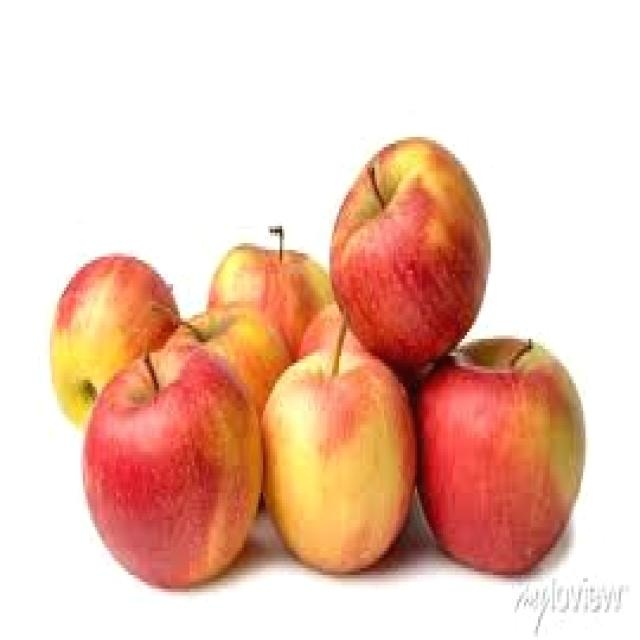agrume: (400, 314, 624, 614), (257, 252, 451, 506), (305, 111, 491, 367), (79, 330, 260, 589), (169, 181, 341, 447), (273, 344, 425, 580), (26, 214, 182, 418), (156, 286, 300, 501)
